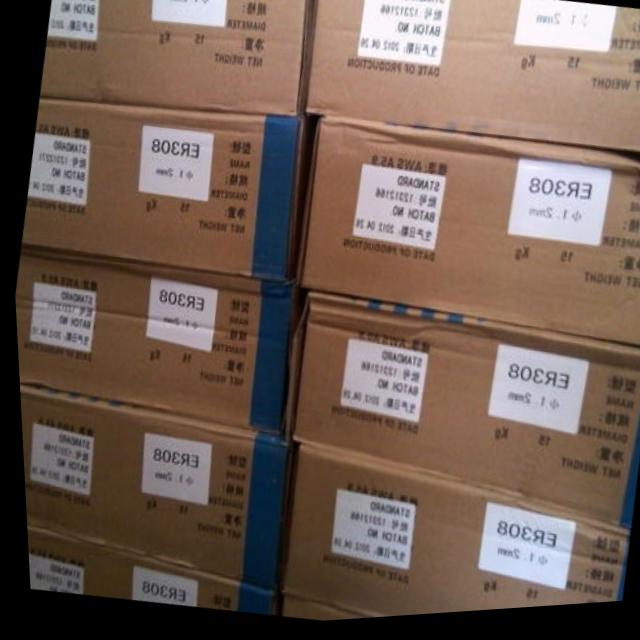box: (279, 290, 640, 537), (290, 118, 640, 353), (275, 446, 625, 623), (12, 243, 308, 439), (16, 384, 293, 593), (18, 97, 311, 283), (304, 0, 640, 160), (38, 0, 315, 122), (21, 524, 269, 619), (274, 601, 357, 625)
